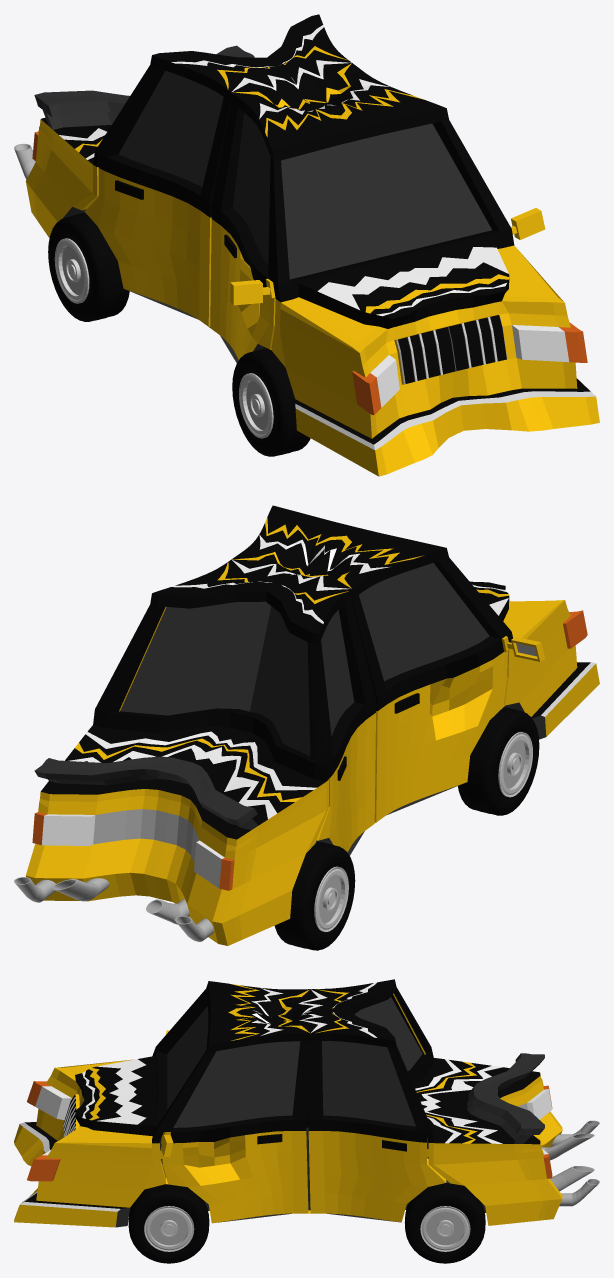
The picture shows the model from 3 angles, top to bottom: view 1: azimuth 30°, elevation 25°; view 2: azimuth 150°, elevation 25°; view 3: azimuth 270°, elevation 25°; orthographic projection. The views are drawn at different scales.
Visible parts, largest first — view 1: BODYB-S, WHEEL.004, WHEEL.001; view 2: BODYB-S, WHEEL.001, WHEEL.004; view 3: BODYB-S, WHEEL.002, WHEEL.003.
Part boxes in pixels (box(x1,y1,x2,y2)): BODYB-S: box(14, 14, 599, 476); WHEEL.004: box(48, 212, 129, 321); WHEEL.001: box(232, 348, 310, 456); BODYB-S: box(14, 505, 599, 945); WHEEL.001: box(458, 707, 539, 815); WHEEL.004: box(274, 841, 355, 950); BODYB-S: box(14, 979, 599, 1227); WHEEL.002: box(404, 1183, 485, 1263); WHEEL.003: box(128, 1184, 209, 1263).
Bounding box in the file's own units: 131 × 112 × 284.
